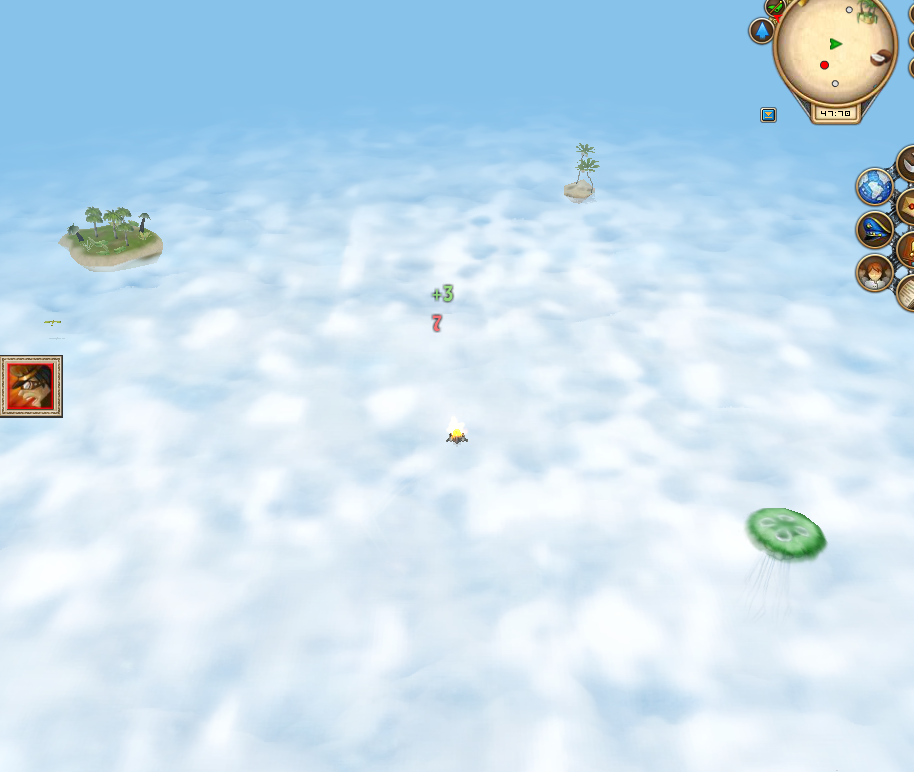palm: (556, 138, 601, 205)
